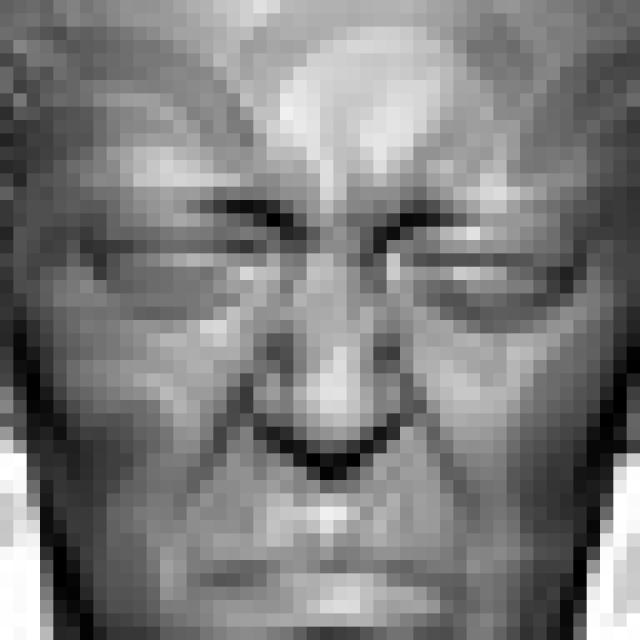disgust: (79, 142, 594, 640)
